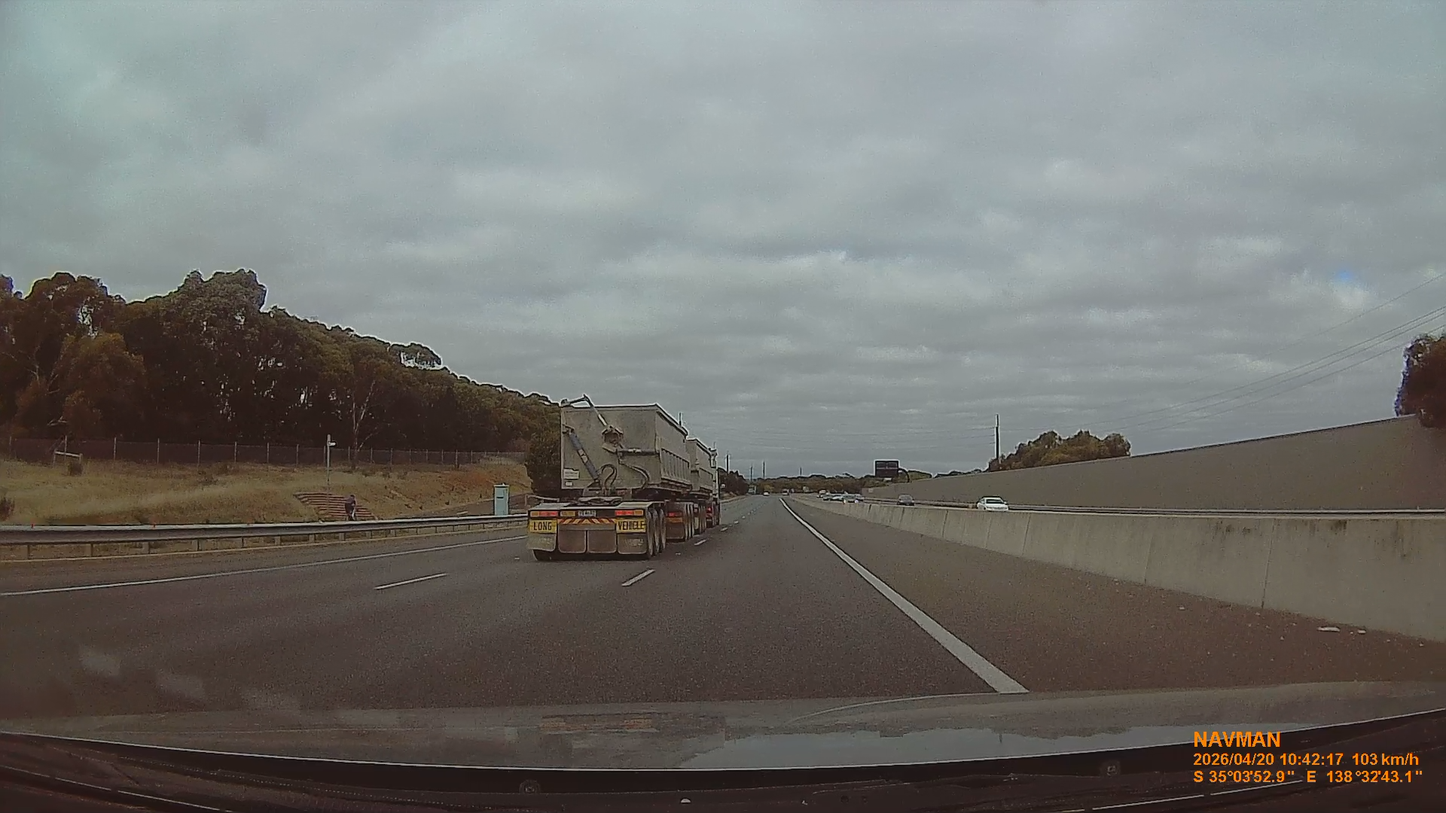fences: (71, 439, 351, 468)
road barriers: (805, 502, 1445, 642), (0, 515, 522, 563)
